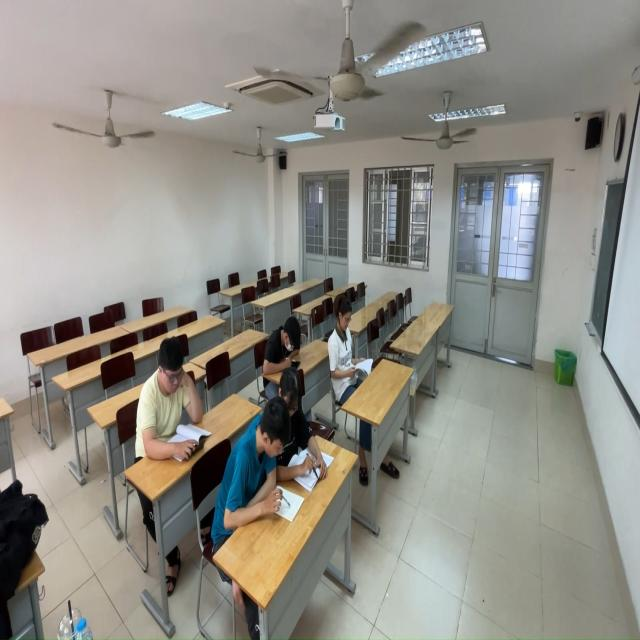read: (139, 325, 212, 478), (222, 394, 294, 539), (264, 360, 327, 487), (327, 292, 380, 403), (263, 313, 306, 380)
